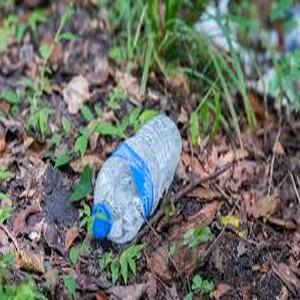Plastic: (89, 112, 185, 246)
